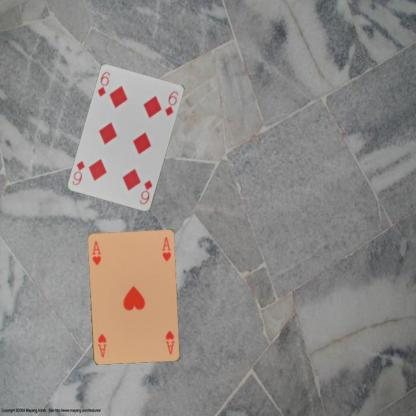6d: (94, 70, 112, 98), (137, 177, 154, 206)
Ah: (163, 328, 176, 356), (89, 239, 102, 267)
